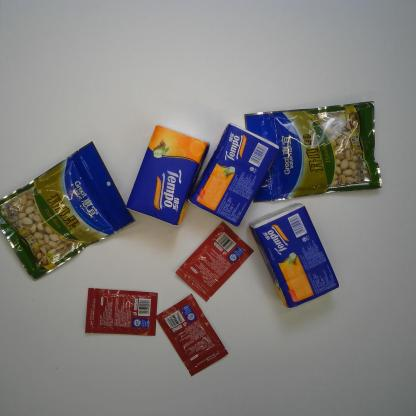Dried Fruit: (0, 140, 137, 282), (244, 100, 383, 204)
Seasoner: (174, 219, 255, 305), (156, 292, 230, 378), (84, 287, 160, 338)
Tissue: (187, 121, 281, 228), (247, 202, 340, 310), (125, 124, 212, 227)
